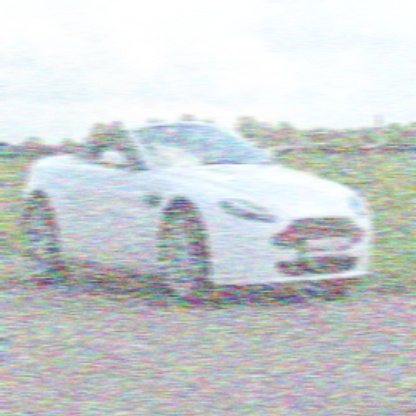Vehicle: (20, 103, 370, 337)
